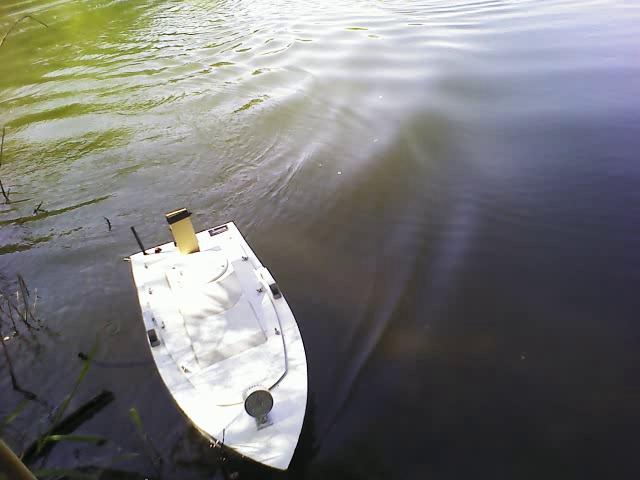boat: (125, 217, 314, 475)
